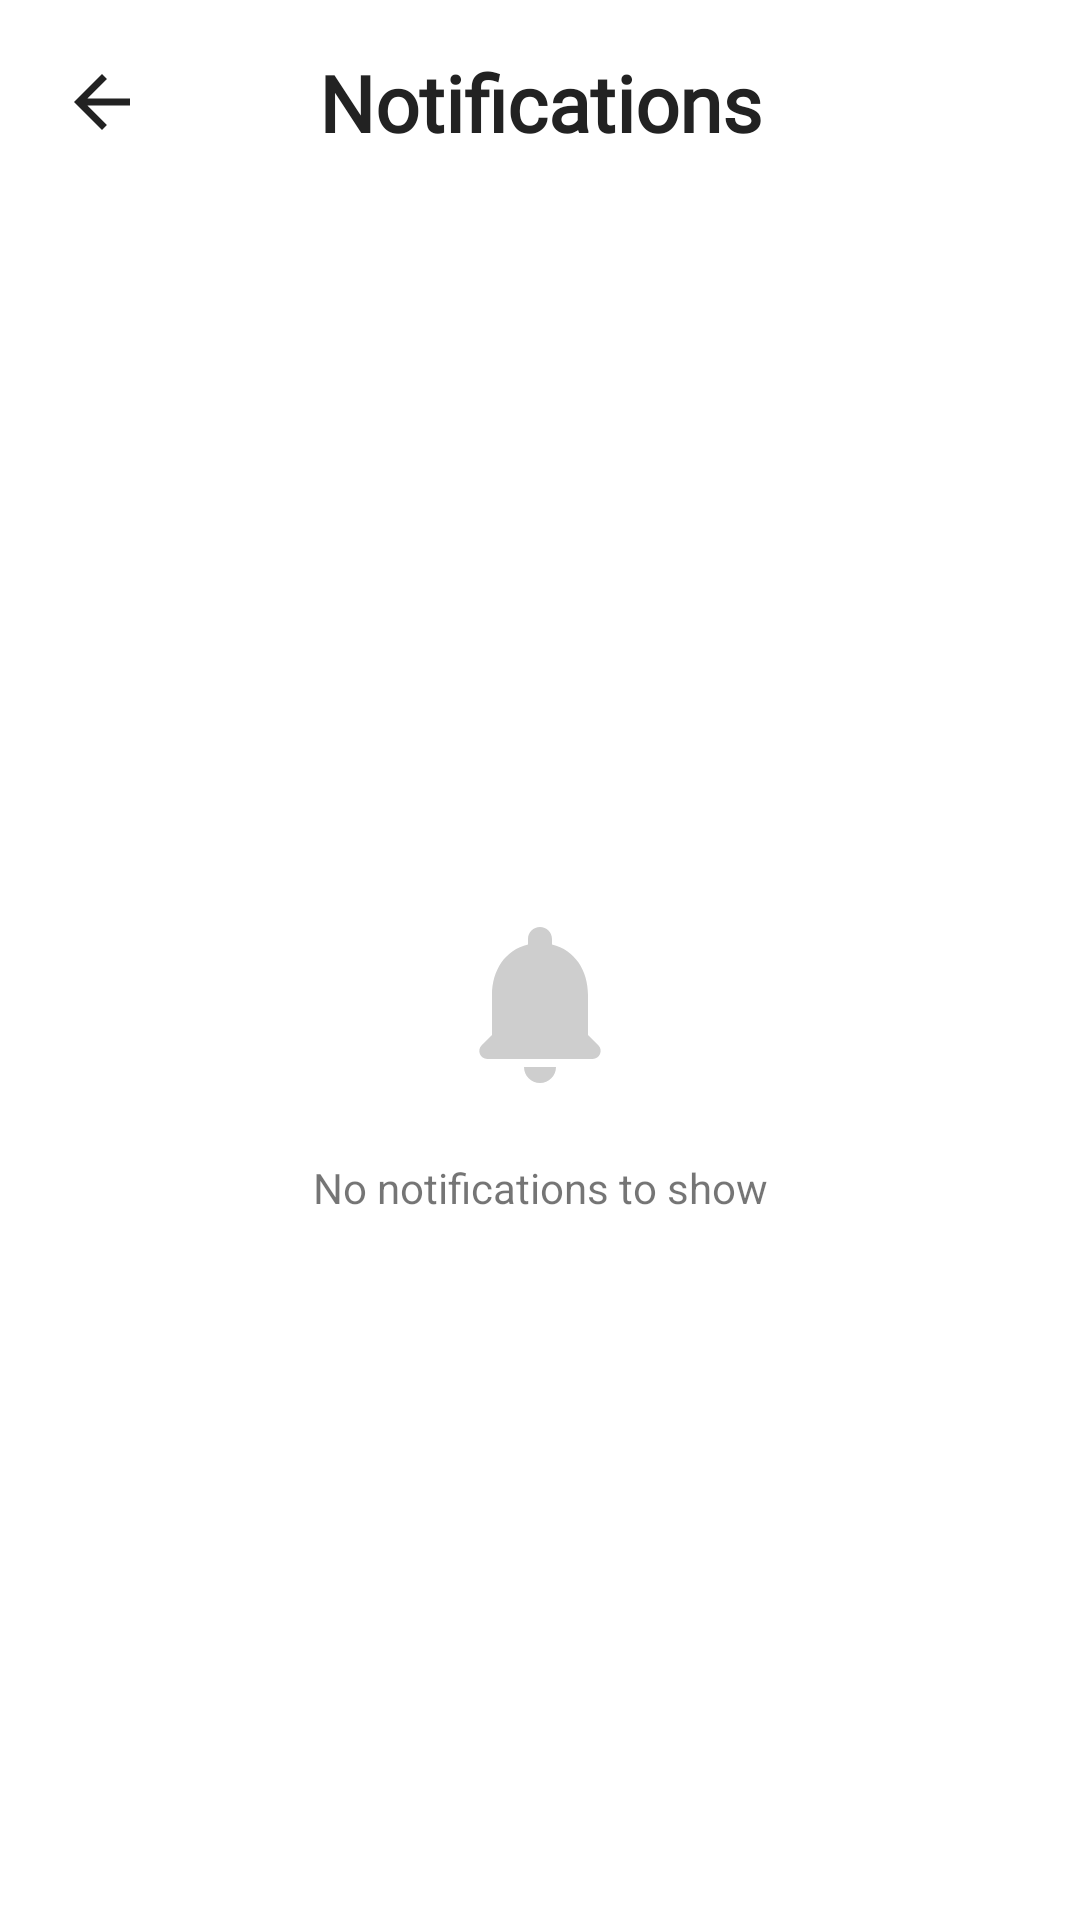

Named icons in this screenshot (1080px×1920px) and their bounding boxes, box=[x1, y1, x2, y2]:
arrow back: box=[74, 74, 130, 130]
